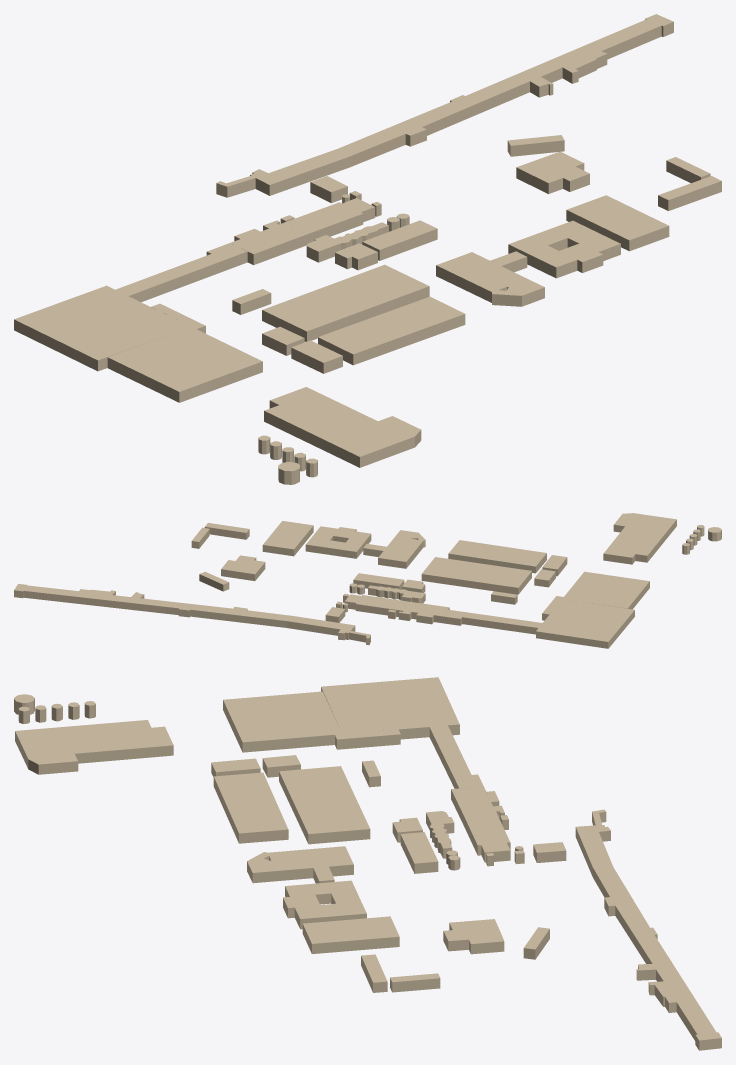
Rendered from -14_-8-estimated-coarse.glb.
The picture shows the model from 3 angles, top to bottom: view 1: azimuth 30°, elevation 25°; view 2: azimuth 150°, elevation 25°; view 3: azimuth 270°, elevation 25°; orthographic projection. The views are drawn at different scales.
Bounding box in the file's own units: 916 × 15 × 754.
